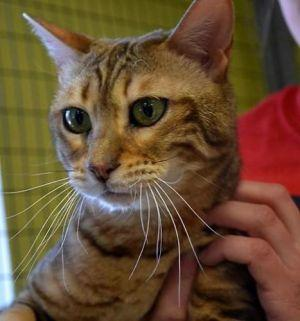bengal: (12, 1, 246, 216)
